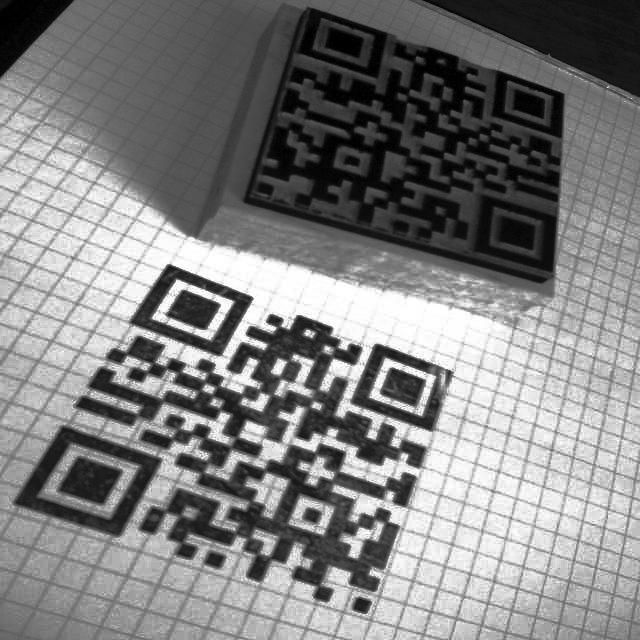qr_code: (13, 266, 452, 614), (256, 8, 563, 266)
